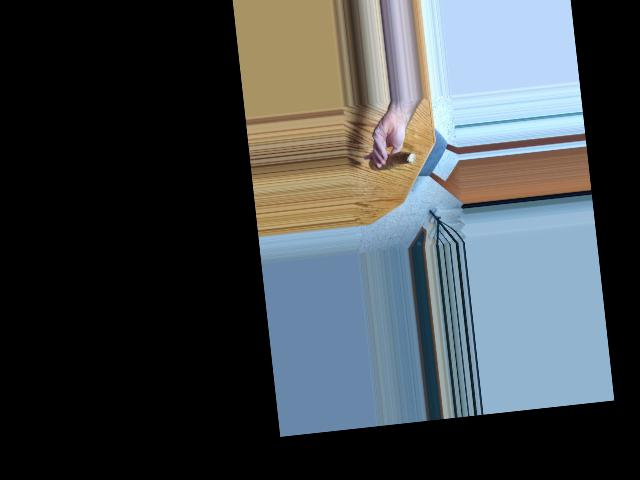sweet_potato: (371, 147, 413, 173)
